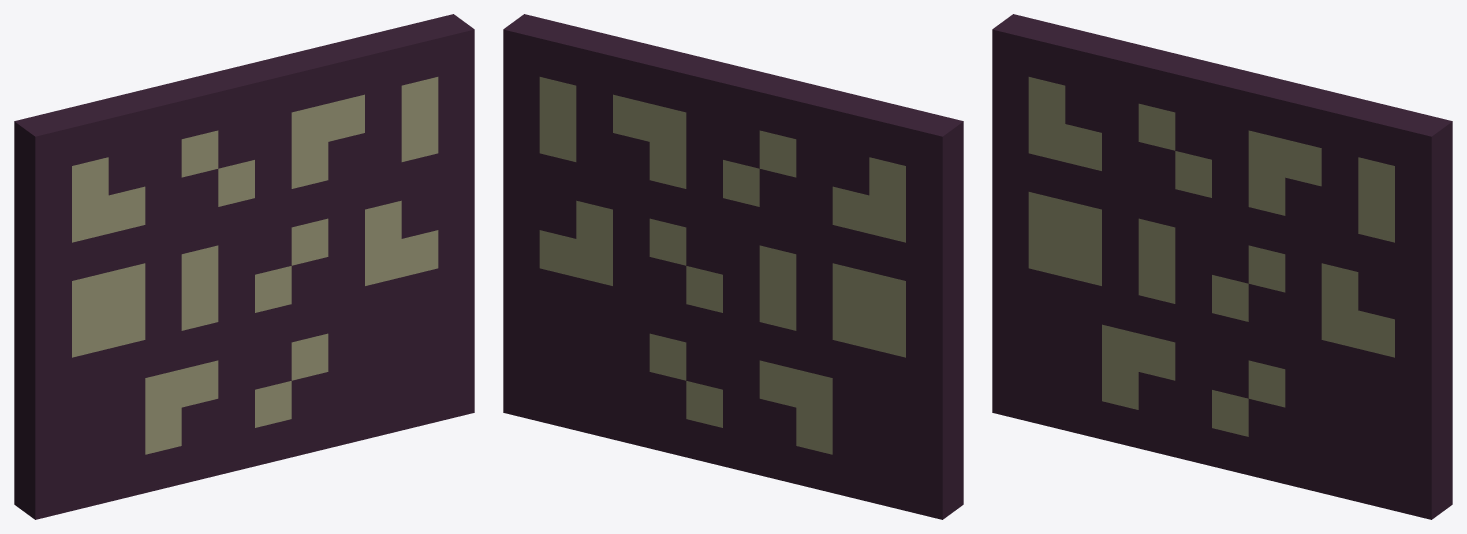
File: Generator Decoration 2.glb
3 renders of one model, left to right at view 1: azimuth 30°, elevation 25°; view 2: azimuth 150°, elevation 25°; view 3: azimuth 330°, elevation 25°, orthographic.
Parts seen in each view (by area): view 1: generated(Clone); view 2: generated(Clone); view 3: generated(Clone).
Part boxes in pixels (<box>): generated(Clone): <box>14,14,474,519</box>; generated(Clone): <box>503,14,963,519</box>; generated(Clone): <box>992,14,1452,519</box>.
Size of the model in its own units: 12 by 10 by 1.
1 material, 1 textured.
